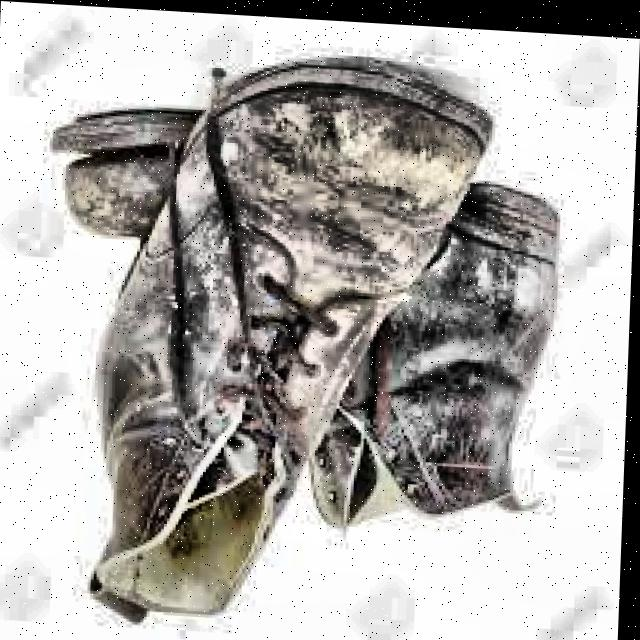shoes: (17, 50, 606, 640)
